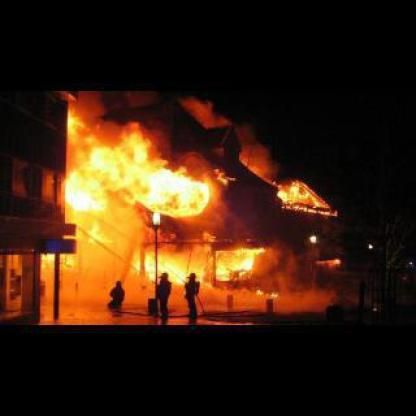fire: (56, 116, 210, 235), (136, 242, 261, 288), (279, 180, 329, 216)
